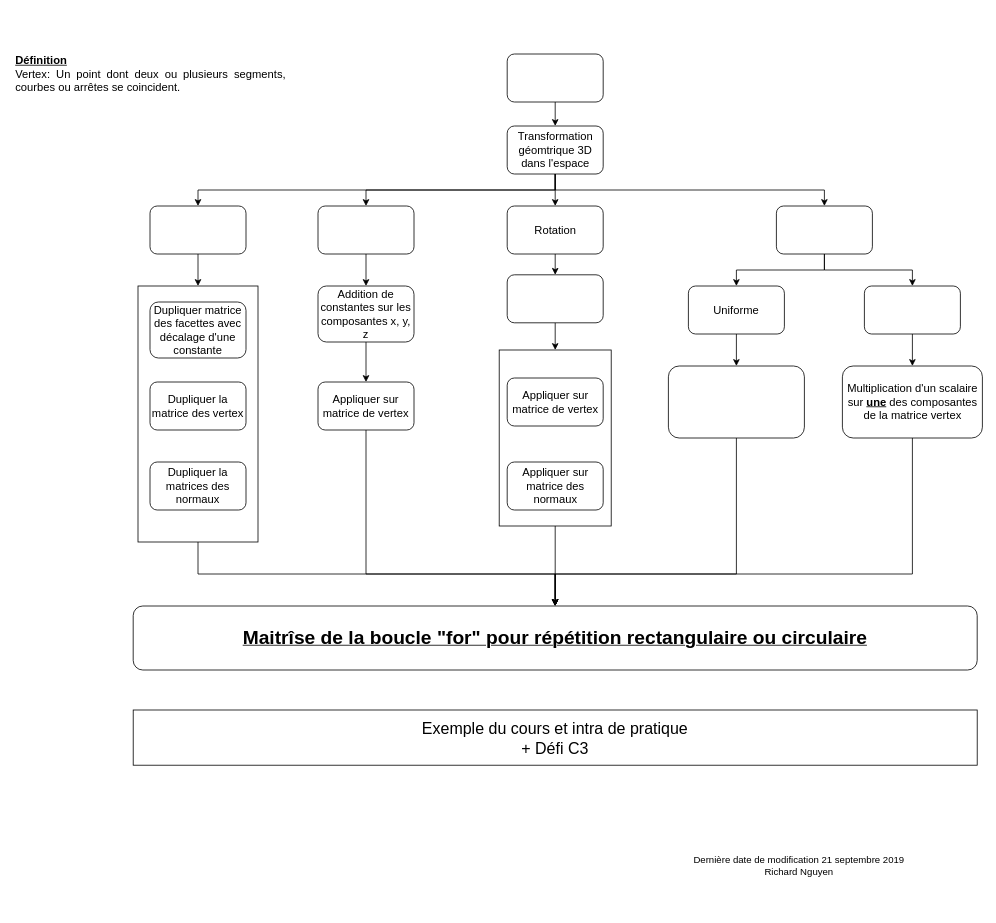
Image size: 996x923. Some labels were removed from this diagram. The shapes that lost their labels are listed below. From the top down, each one's box as (x1, y1, x2, y2) in pixels, then its label:
(506, 53, 603, 102): Module C3
(149, 205, 246, 254): Duplication
(317, 205, 414, 254): Translation
(776, 205, 872, 254): Mise à l'échelle
(506, 274, 603, 323): Application de la matrice de Rotation
(864, 285, 960, 334): Non uniforme
(668, 365, 804, 438): Multiplication d'un scalaire sur toutes les composantes de la matrice vertex
